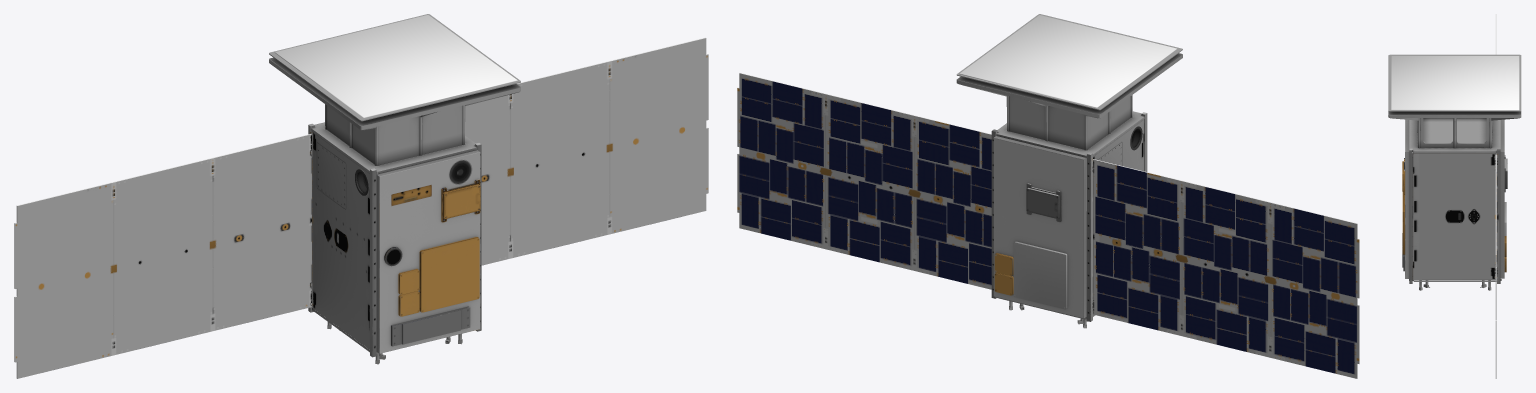
File: capstone.glb
3 views of the same model, side by side, from view 1: azimuth 30°, elevation 25°; view 2: azimuth 150°, elevation 25°; view 3: azimuth 270°, elevation 25° (orthographic). The views are drawn at different scales.
Visible parts, largest first — view 1: array, bus, foil, ao; view 2: array, bus, foil, ao; view 3: bus, foil, ao, array, thrusters.
Part boxes in pixels (x1,y1,x2,y2): array: [14, 37, 708, 378]; bus: [308, 122, 481, 357]; foil: [274, 15, 517, 117]; ao: [269, 14, 520, 354]; array: [737, 73, 1359, 378]; bus: [991, 111, 1147, 321]; foil: [959, 15, 1176, 107]; ao: [956, 14, 1182, 319]; bus: [1402, 119, 1507, 283]; foil: [1391, 56, 1519, 110]; ao: [1388, 54, 1521, 281]; array: [1495, 14, 1496, 378]; thrusters: [1419, 280, 1491, 290].
Bounding box in the file's own units: 1.43 × 0.5294 × 0.3305.
5 materials, 3 textured.
